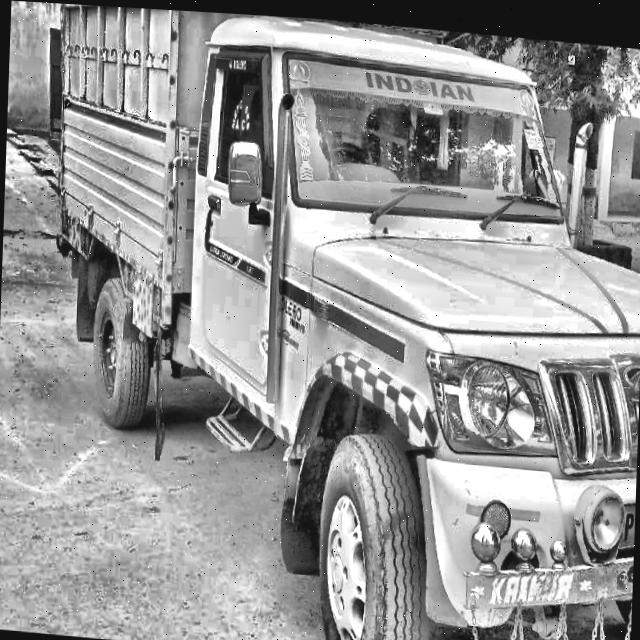light_vehicle: (169, 13, 640, 590)
